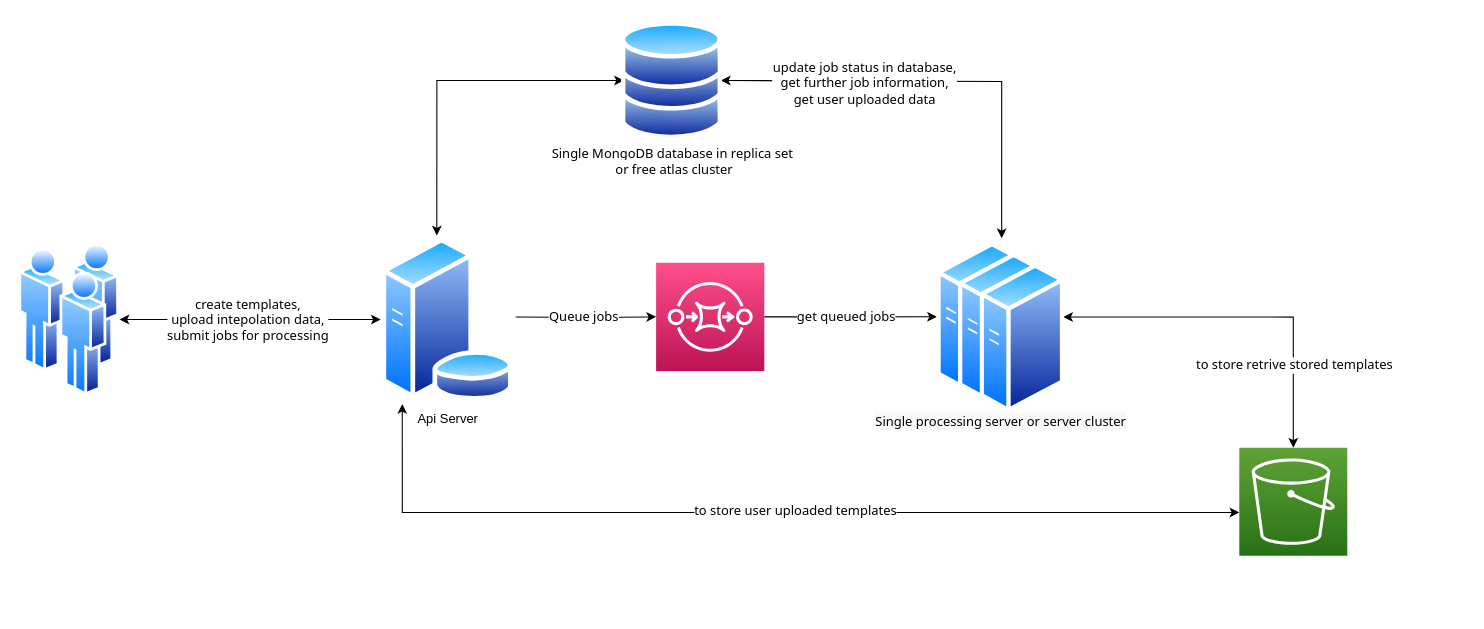
This 1484x629 diagram has some shape labels left out. The box of each missing label's shape, as (x1, y1, x2, y2) in pixels:
AWS SQS: (655, 262, 764, 371)
S3 bucket Or Google Drive Developer Account to store objects in Drive: (1238, 447, 1347, 556)
